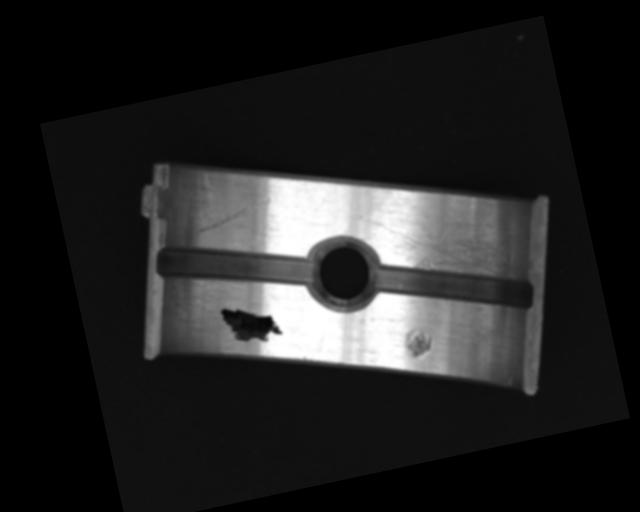blot: (219, 295, 285, 350)
bruise: (401, 323, 435, 359)
gap: (371, 234, 536, 337), (155, 217, 318, 314)
hole: (302, 232, 384, 313)
nick: (190, 195, 276, 236)
scratch: (373, 190, 532, 299)
